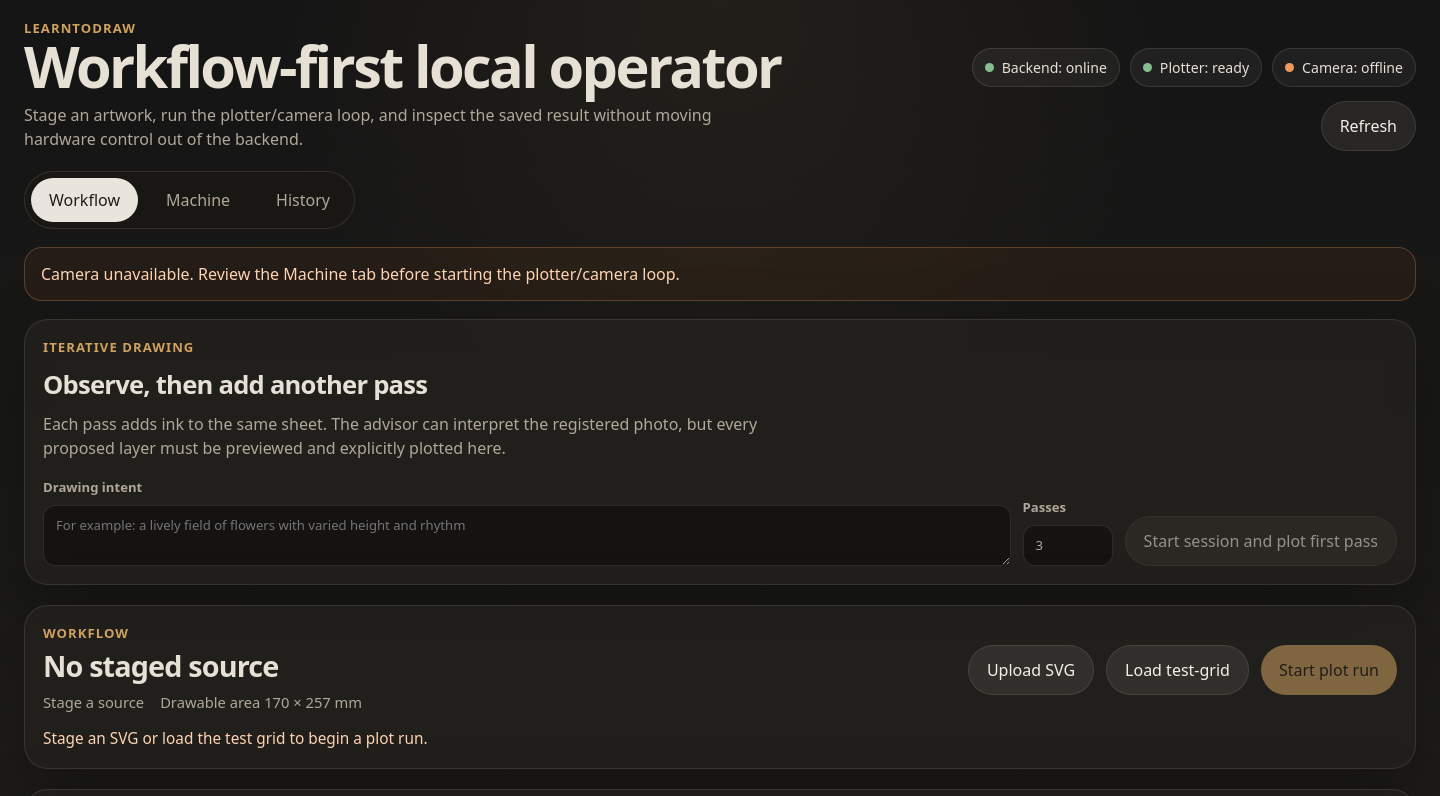
Test: machine and camera focused behaviors › shows CameraBridge service guidance on the Machine tab when the service is offline
Click the button "Machine" at {"x": 198, "y": 200}, box [148,178,248,222]
(page scrolled)
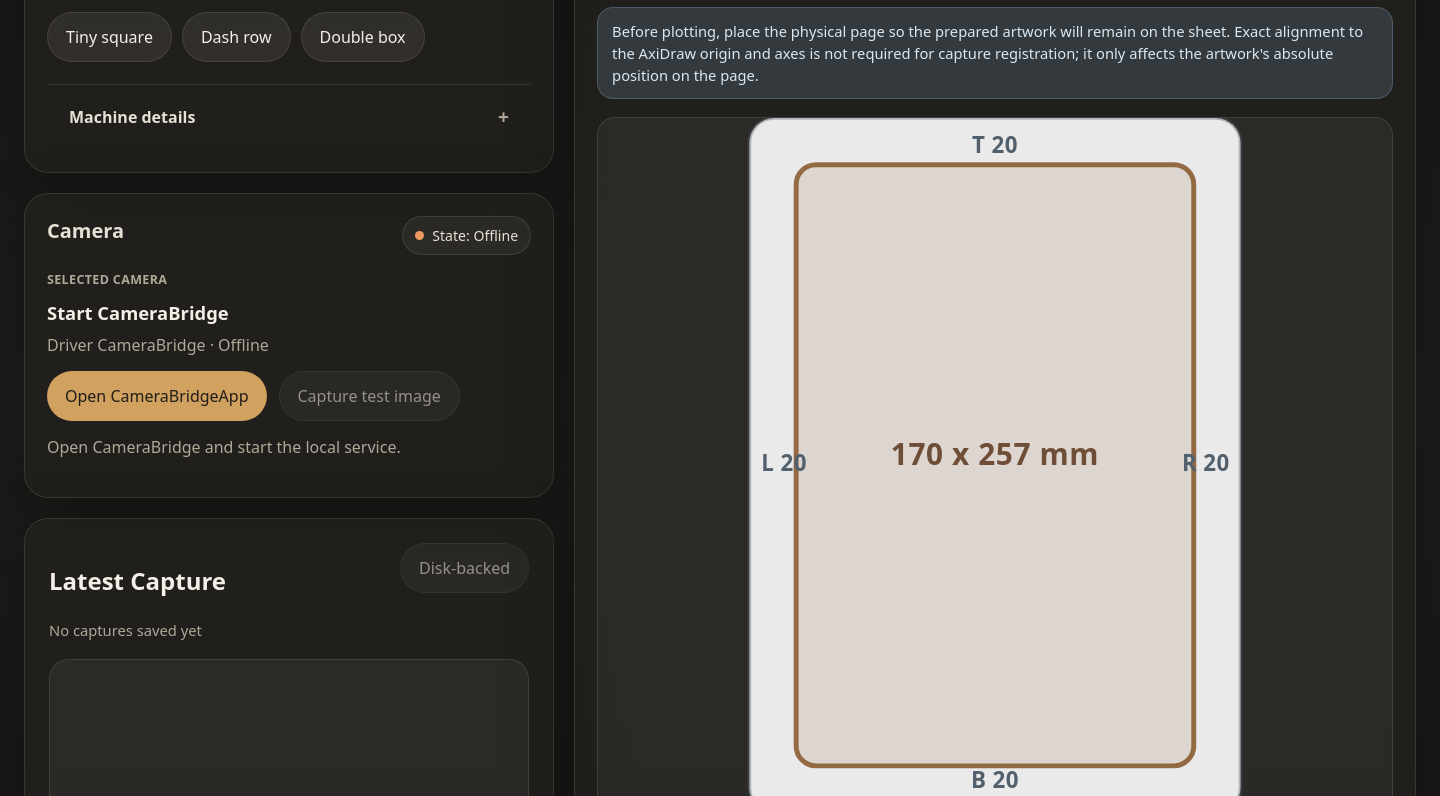
Expected: the button "Capture test image" is disabled, [278,371,460,421]
Expected: the heading "Start CameraBridge" is shown, [47,300,229,326]
Expected: the button "Open CameraBridgeApp" is shown, [47,371,266,421]
